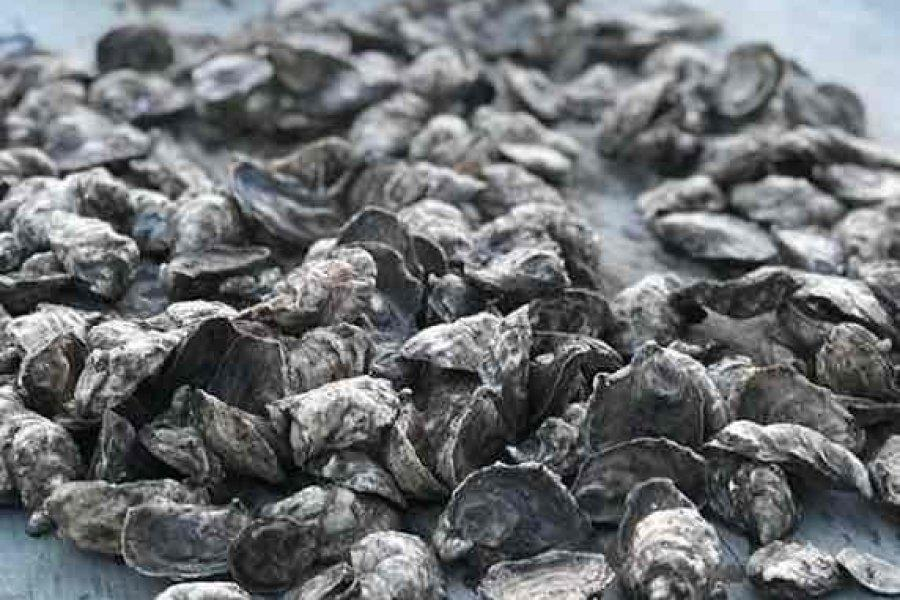Oyster: (151, 302, 379, 425), (390, 307, 544, 480), (197, 41, 387, 141), (575, 342, 725, 454), (433, 460, 592, 562), (140, 384, 290, 490), (452, 201, 603, 300), (434, 465, 592, 559), (704, 419, 874, 496), (569, 437, 714, 524), (611, 494, 729, 599), (228, 156, 353, 251), (274, 374, 406, 463), (722, 364, 867, 441), (245, 479, 401, 550), (120, 498, 251, 580), (253, 250, 377, 333), (667, 267, 815, 334), (42, 477, 160, 558), (701, 452, 799, 549), (2, 408, 83, 525), (337, 236, 434, 332), (42, 213, 141, 305), (775, 269, 897, 341), (439, 387, 520, 490), (698, 124, 831, 184), (395, 310, 515, 375), (648, 208, 778, 267), (227, 516, 325, 594), (359, 157, 486, 217), (37, 105, 149, 173), (338, 529, 445, 600), (599, 69, 689, 152), (82, 175, 176, 248), (725, 172, 840, 231), (479, 551, 617, 600), (13, 333, 89, 420), (777, 67, 868, 135), (814, 324, 894, 400), (86, 67, 184, 129), (708, 42, 781, 125), (511, 289, 615, 347), (158, 245, 269, 299), (463, 1, 564, 59), (164, 190, 246, 256), (347, 97, 428, 161), (396, 198, 479, 255), (89, 405, 145, 485), (636, 173, 731, 219), (94, 22, 177, 74), (402, 44, 478, 99), (815, 157, 900, 206), (265, 44, 343, 97), (834, 204, 899, 267), (469, 106, 556, 153), (0, 270, 85, 317), (476, 159, 554, 205), (492, 138, 576, 178), (0, 144, 57, 184)
